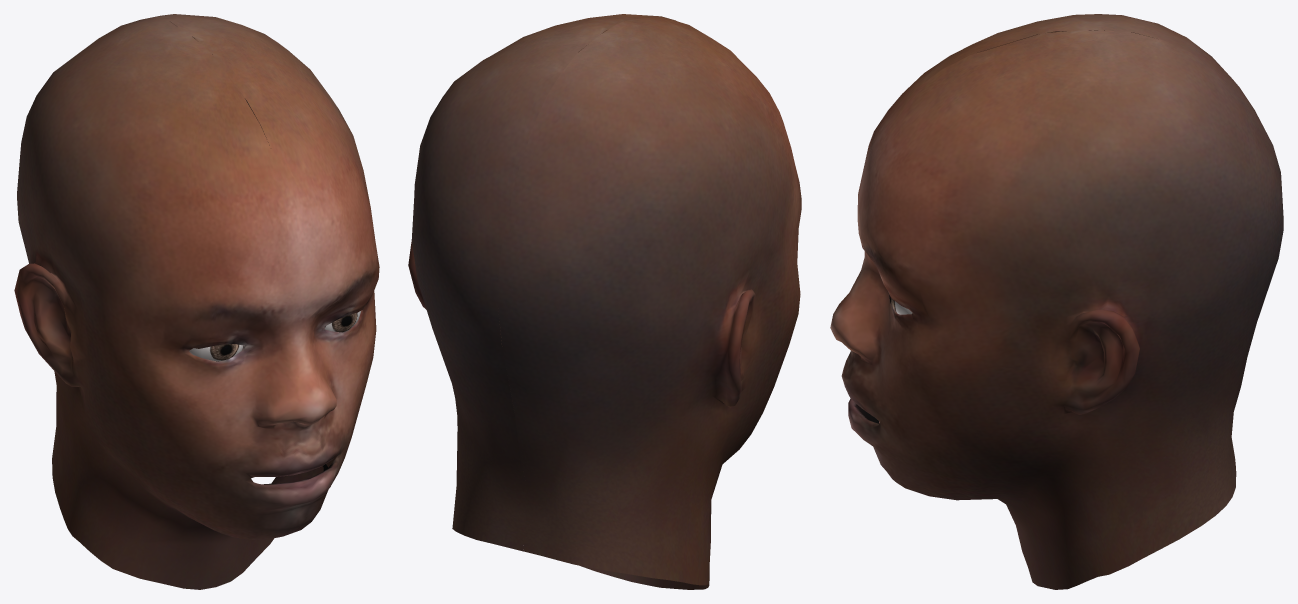
File: talk_000002.obj
3 views of the same model, side by side, from view 1: azimuth 30°, elevation 25°; view 2: azimuth 150°, elevation 25°; view 3: azimuth 270°, elevation 25° (orthographic). The views are drawn at different scales.
Parts seen in each view (by area): view 1: model.002_model.004; view 2: model.002_model.004; view 3: model.002_model.004.
Boxes of the visible parts, box(x1,y1,x2,y2) form: model.002_model.004: box(14, 14, 379, 589); model.002_model.004: box(408, 14, 801, 589); model.002_model.004: box(830, 14, 1283, 589).
Size of the model in its own units: 0.4496 by 0.7365 by 0.5536.
Materials: 1 (1 with a texture image).
